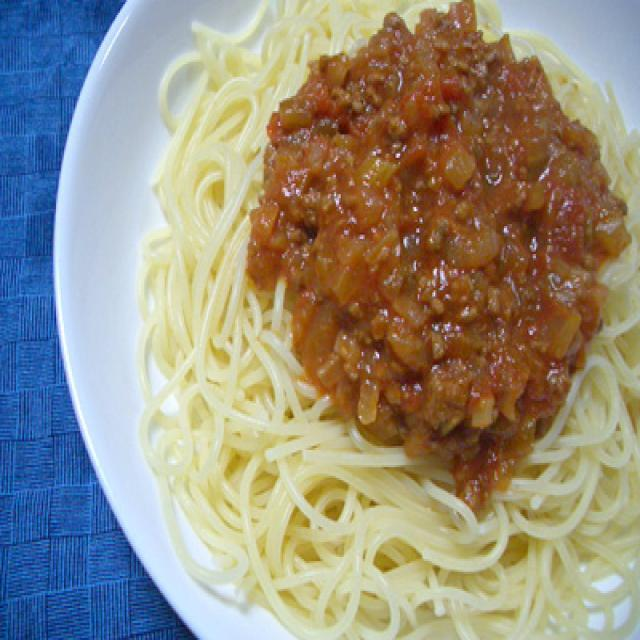Pasta: (131, 6, 640, 638)
